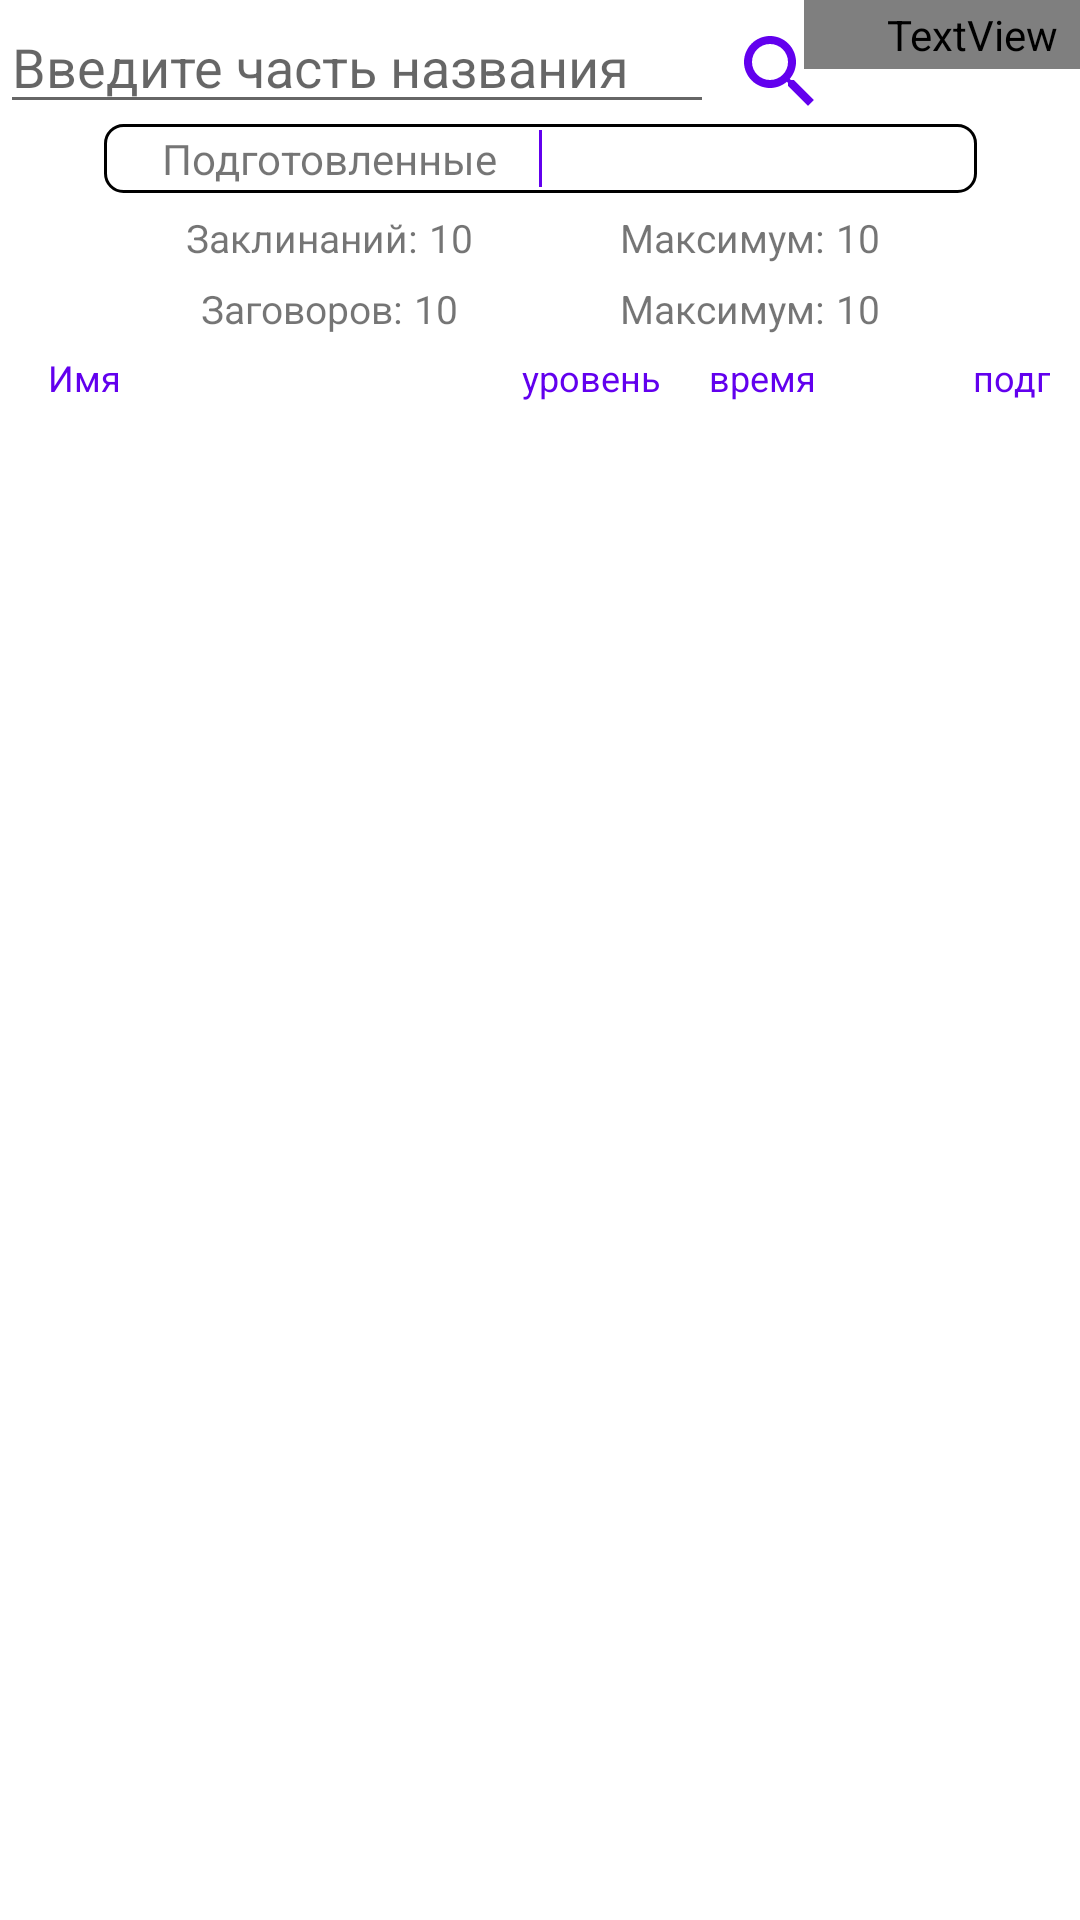

Locate icon controls on the screen. Image size 1080 × 1920, boxes as (x1,y1,x2,y2).
search: (744,36,814,106)
